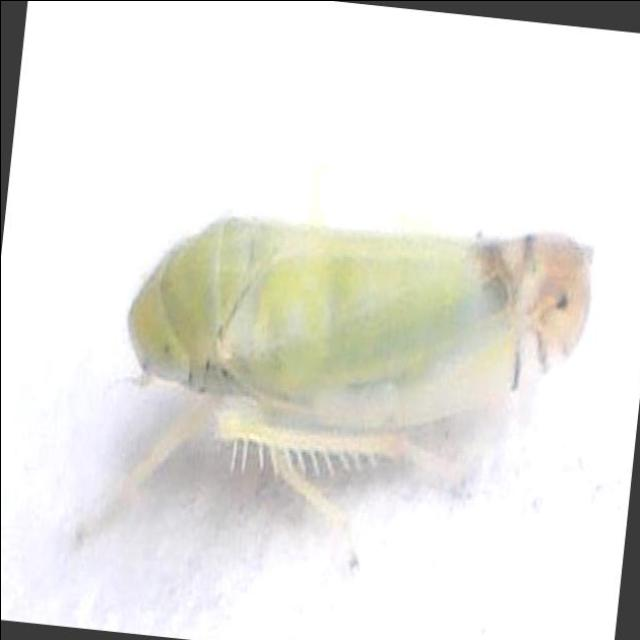green leaf hopper: (116, 216, 592, 539)
